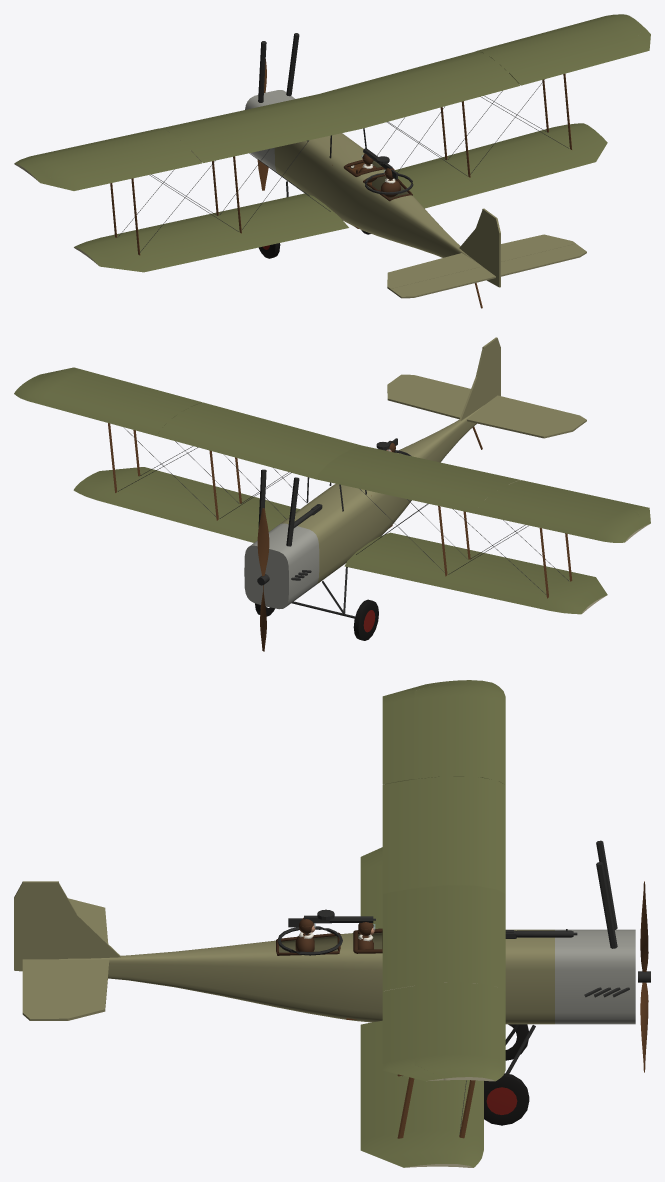
3 renders of one model, top to bottom at view 1: azimuth 30°, elevation 25°; view 2: azimuth 150°, elevation 25°; view 3: azimuth 270°, elevation 25°, orthographic. The views are drawn at different scales.
Visible parts, largest first — view 1: Wing_Upper_R, Wing_Upper_L, Wing_Lower_L, Fuselage, Wing_Lower_R, Elevator, Aileron_L, Aileron_R, Stabilizer_L, Struts, Wires, Rudder (+4 smaller); view 2: Wing_Upper_R, Wing_Upper_L, Fuselage, Wing_Lower_L, Wing_Lower_R, Elevator, Stabilizer_L, Struts, Stabilizer_R, Aileron_L, Aileron_R, Wires (+6 smaller); view 3: Fuselage, Wing_Upper_L, Wing_Upper_R, Wing_Lower_R, Rudder, Aileron_R, Aileron_L, Stabilizer_R, Wheels, Elevator, Fin, Wing_Lower_L (+6 smaller).
Boxes of the visible parts, x1,y1,x2,y2 form: Wing_Upper_R: (319,14,643,128); Wing_Upper_L: (14,94,361,177); Wing_Lower_L: (74,193,348,272); Fuselage: (245,90,481,265); Wing_Lower_R: (395,123,607,208); Elevator: (390,244,586,298); Aileron_L: (33,150,201,190); Aileron_R: (509,27,650,85); Stabilizer_L: (387,253,481,290); Struts: (110,74,572,255); Wires: (118,79,568,252); Rudder: (482,208,500,287); Wing_Upper_R: (14,372,361,479); Wing_Upper_L: (316,445,643,542); Fuselage: (244,405,483,609); Wing_Lower_L: (344,532,607,614); Wing_Lower_R: (73,467,299,542); Elevator: (391,374,586,428); Stabilizer_L: (467,405,575,438); Struts: (108,423,572,598); Stabilizer_R: (387,382,466,419); Aileron_L: (509,480,650,527); Aileron_R: (34,367,201,406); Wires: (118,428,568,594); Fuselage: (61,929,635,1024); Wing_Upper_L: (382,680,505,893); Wing_Upper_R: (382,885,505,1081); Wing_Lower_R: (360,1020,483,1167); Rudder: (14,881,58,971); Aileron_R: (382,986,443,1081); Aileron_L: (382,682,441,784); Stabilizer_R: (59,959,109,1020); Wheels: (484,1024,529,1125); Elevator: (22,959,58,1020); Fin: (59,883,120,958); Wing_Lower_L: (360,847,382,928).
Size of the model in its own units: 12.98 by 3.66 by 8.8.
